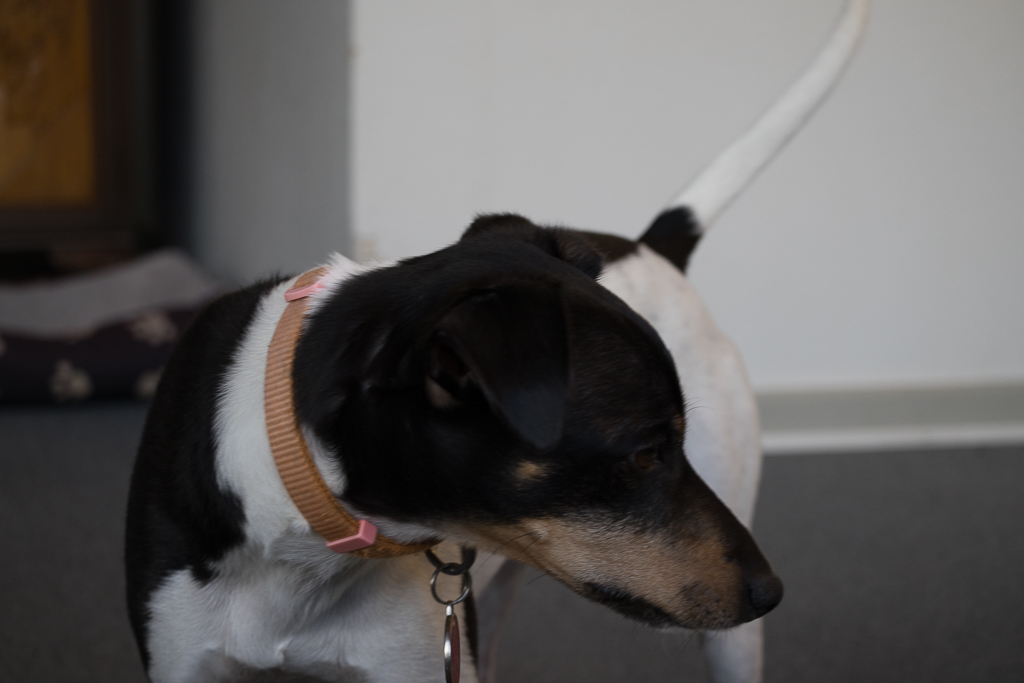Dog: (114, 0, 882, 683)
